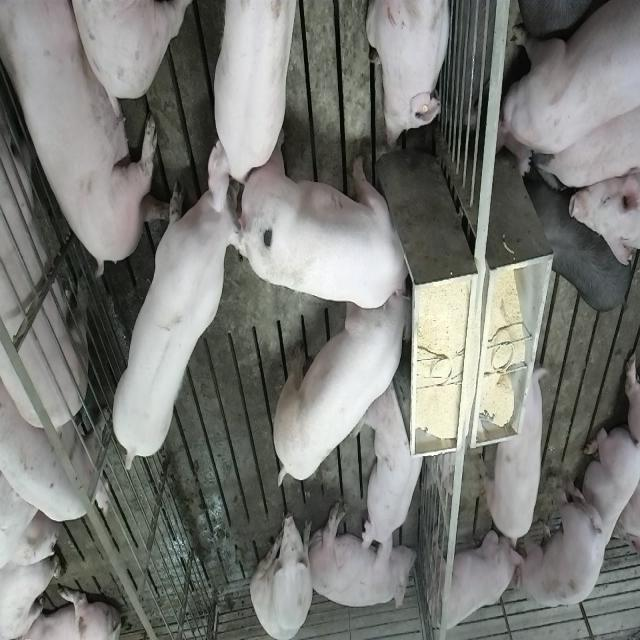Feeding: (268, 280, 411, 497), (245, 143, 419, 310)
Lateral_lying: (3, 0, 169, 277), (306, 498, 416, 610)
Sitting: (422, 522, 520, 640), (250, 503, 314, 638)
Standing: (111, 160, 248, 480), (0, 0, 91, 440), (498, 0, 638, 174), (522, 166, 636, 312), (214, 0, 302, 183), (0, 386, 110, 527), (516, 478, 610, 610), (483, 358, 544, 556), (534, 92, 638, 194)
Sternal_lying: (365, 0, 453, 151), (364, 382, 429, 555), (572, 428, 638, 564)
